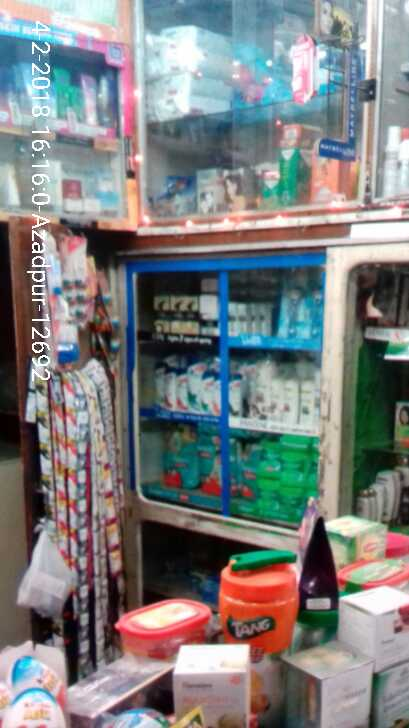venus: (278, 271, 314, 339)
